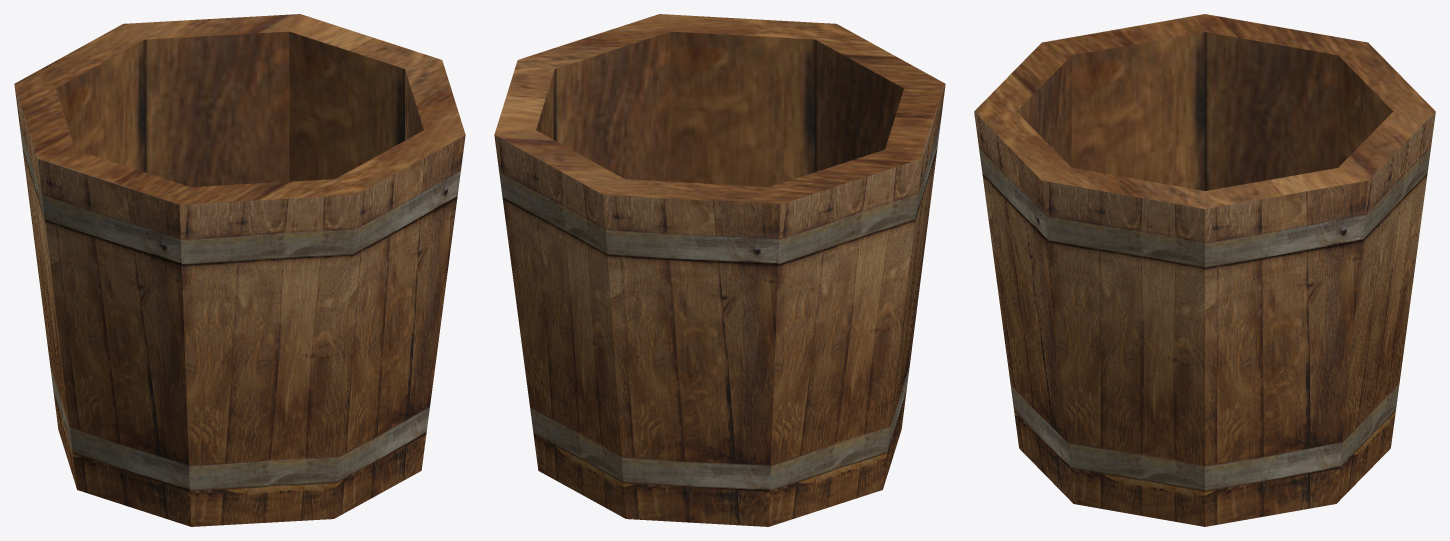
File: Bucket.fbx
3 views of the same model, side by side, from view 1: azimuth 30°, elevation 25°; view 2: azimuth 150°, elevation 25°; view 3: azimuth 270°, elevation 25° (orthographic).
Visible parts, largest first — view 1: pCylinder15; view 2: pCylinder15; view 3: pCylinder15.
Boxes of the visible parts, left/top/right/bottom form: pCylinder15: left=14, top=14, right=465, bottom=526; pCylinder15: left=494, top=14, right=945, bottom=526; pCylinder15: left=974, top=14, right=1435, bottom=526.
Bounding box in the file's own units: 16.13 × 12.98 × 16.13.
1 material, 1 textured.
